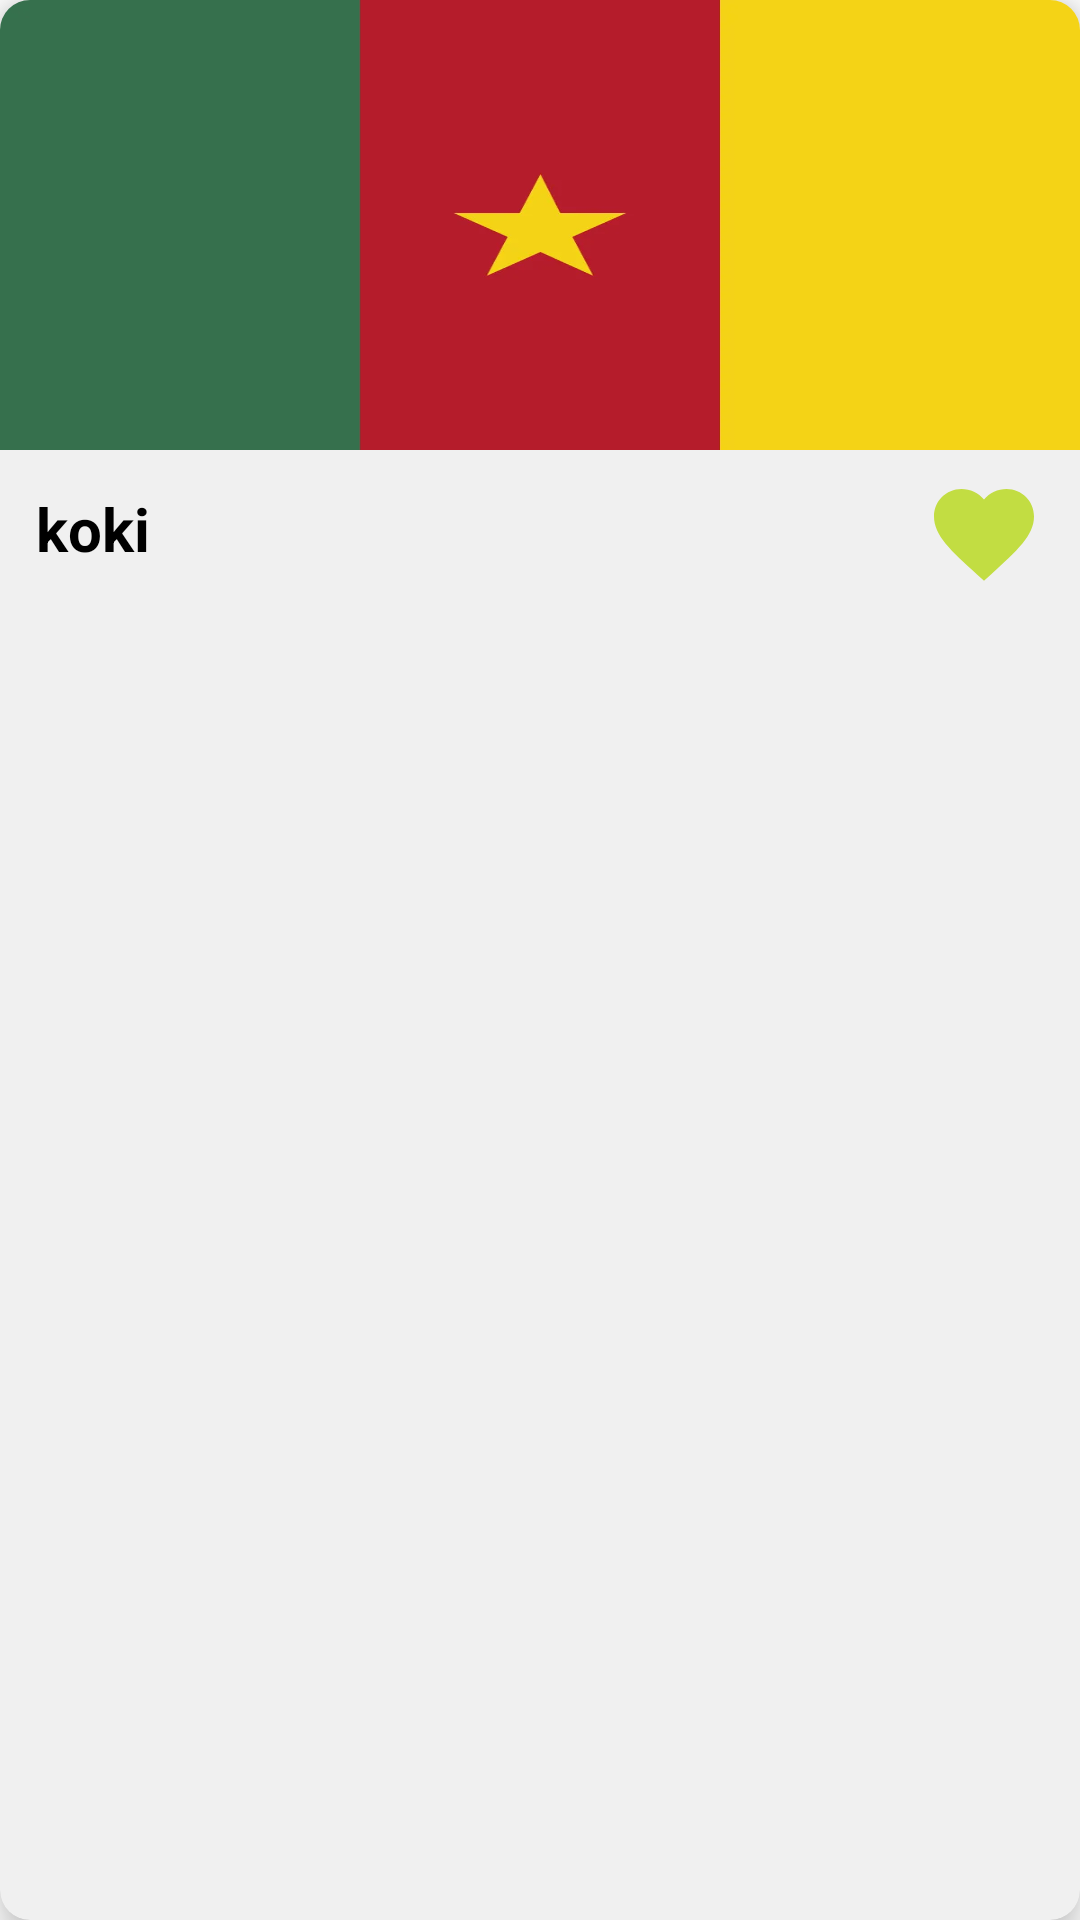

Icons on this 1080*1920 Android screen, each with its box as (x1, y1, x2, y2):
heart fav: (934, 489, 1034, 581)
